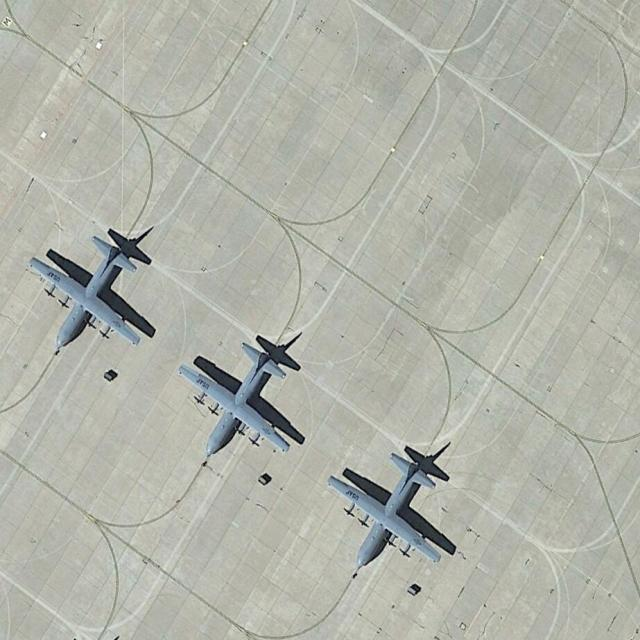fighter jet: (178, 330, 305, 467), (23, 232, 149, 354), (334, 449, 450, 566)
